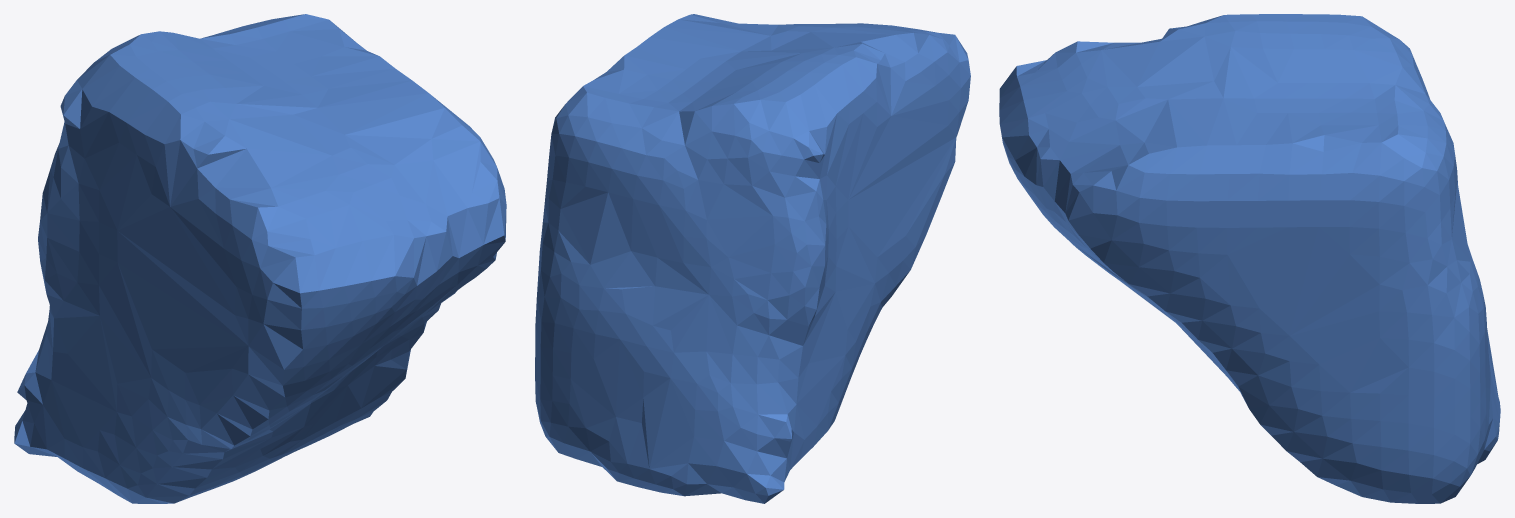
The model's file is Model_10049_LH__Area_14_of_cortex__caudal_part_(A14C).obj.
3 renders of one model, left to right at view 1: azimuth 30°, elevation 25°; view 2: azimuth 150°, elevation 25°; view 3: azimuth 270°, elevation 25°, orthographic. The views are drawn at different scales.
Bounding box in the file's own units: 1.08 × 1.4 × 1.65.
